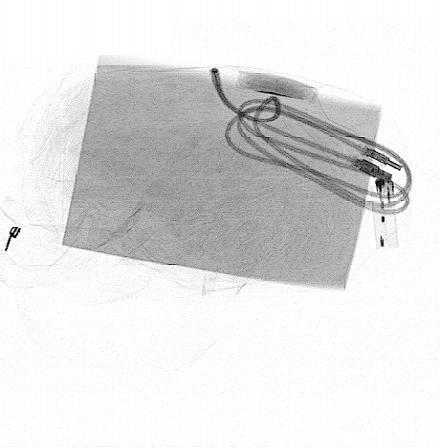Lighter: (371, 175, 399, 250)
